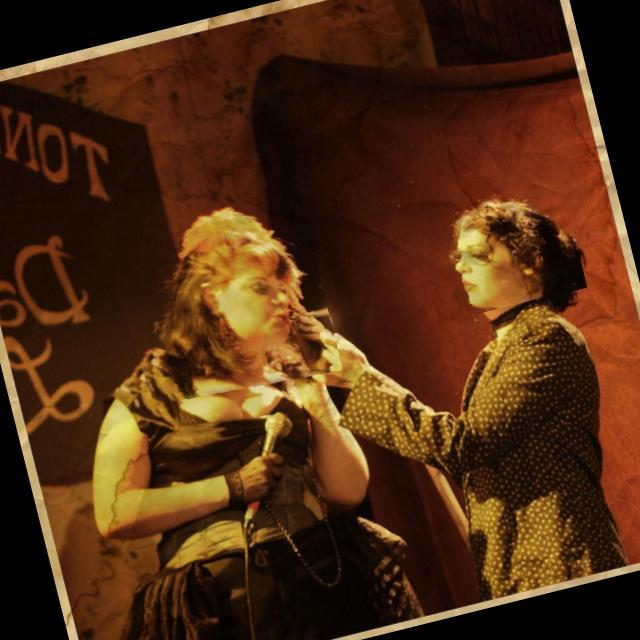cigarette: (274, 297, 333, 335)
